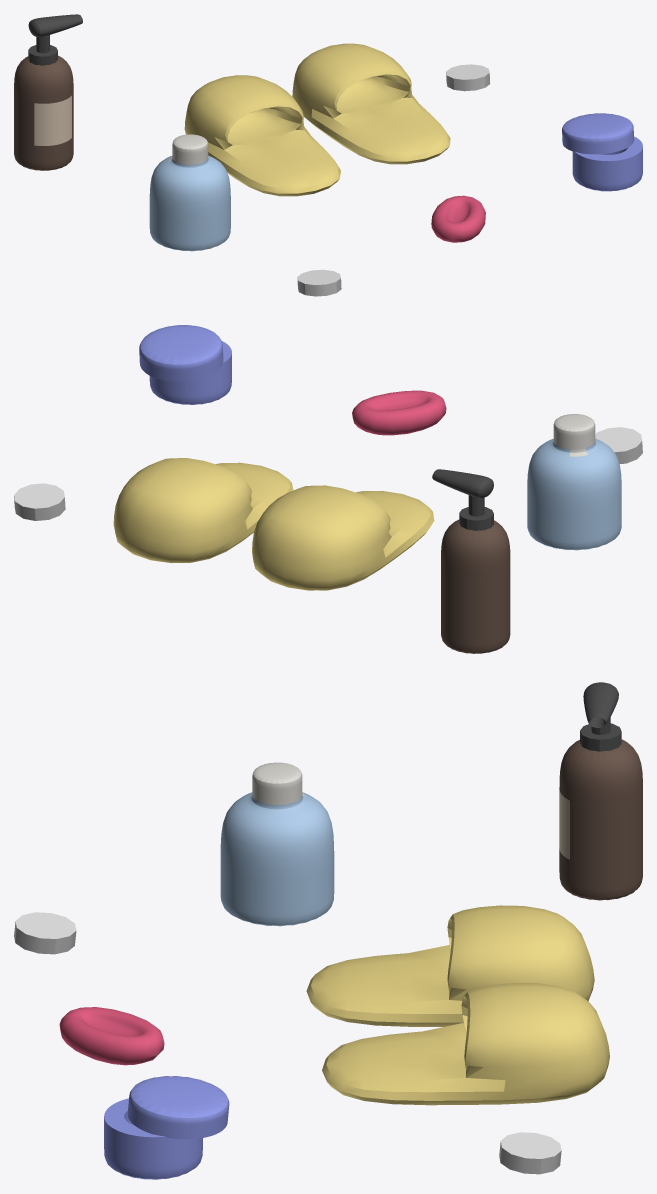
File: bathroom_freebie.fbx
3 renders of one model, top to bottom at view 1: azimuth 30°, elevation 25°; view 2: azimuth 150°, elevation 25°; view 3: azimuth 270°, elevation 25°, orthographic. The views are drawn at different scales.
Parts seen in each view (by area): view 1: Plane.013, Plane.011, bottle, Cylinder.009, Cylinder.014, Cylinder.015, soap, Cylinder.001, Cylinder.034, Cylinder.011, Cylinder.010; view 2: Plane.011, Plane.013, bottle, Cylinder.009, Cylinder.015, soap, Cylinder.014, Cylinder.034, Cylinder.001, Cylinder.011, Cylinder.010; view 3: Plane.013, Plane.011, bottle, Cylinder.009, Cylinder.015, Cylinder.014, soap, Cylinder.034, Cylinder.001, Cylinder.011, Cylinder.010.
Part boxes in pixels (x1,y1,x2,y2): Plane.013: (292,43,450,164); Plane.011: (184,75,340,196); bottle: (149,134,230,251); Cylinder.009: (14,55,73,170); Cylinder.014: (572,136,642,191); Cylinder.015: (562,113,634,154); soap: (431,195,485,242); Cylinder.001: (297,269,341,296); Cylinder.034: (446,64,490,91); Cylinder.011: (28,14,82,37); Cylinder.010: (28,35,57,65); Plane.011: (252,485,434,590); Plane.013: (113,458,293,563); bottle: (527,414,621,550); Cylinder.009: (441,519,510,653); Cylinder.015: (139,325,223,381); soap: (352,390,446,435); Cylinder.014: (149,341,231,404); Cylinder.034: (14,483,65,520); Cylinder.001: (595,427,642,463); Cylinder.011: (432,469,493,498); Cylinder.010: (459,495,493,530); Plane.013: (322,983,609,1105); Plane.011: (306,905,594,1026); bottle: (220,762,334,926); Cylinder.009: (559,739,642,900); Cylinder.015: (127,1076,229,1139); Cylinder.014: (104,1098,202,1179); soap: (59,1007,164,1065); Cylinder.034: (499,1132,561,1174); Cylinder.001: (14,912,76,954); Cylinder.011: (583,682,618,727); Cylinder.010: (580,717,621,751).
Size of what is drawn, in the model's own units: 331 by 101 by 280.
